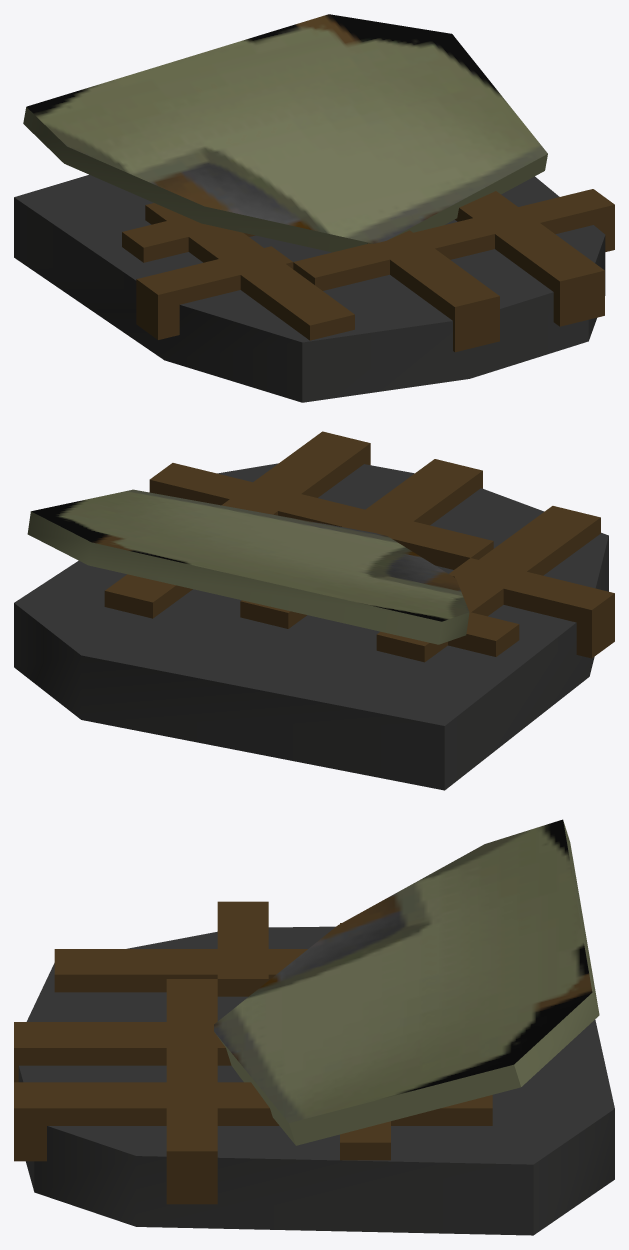
The model's file is Building_ShipChunk.obj.
The picture shows the model from 3 angles, top to bottom: view 1: azimuth 30°, elevation 25°; view 2: azimuth 150°, elevation 25°; view 3: azimuth 270°, elevation 25°; orthographic projection. The views are drawn at different scales.
Visible parts, largest first — view 1: Body; view 2: Body; view 3: Body.
Part boxes in pixels (<box>): Body: <box>14,14,614,402</box>; Body: <box>14,431,614,790</box>; Body: <box>14,819,614,1235</box>.
Bounding box in the file's own units: 1.81 × 0.6328 × 1.84.
1 material, 1 textured.
